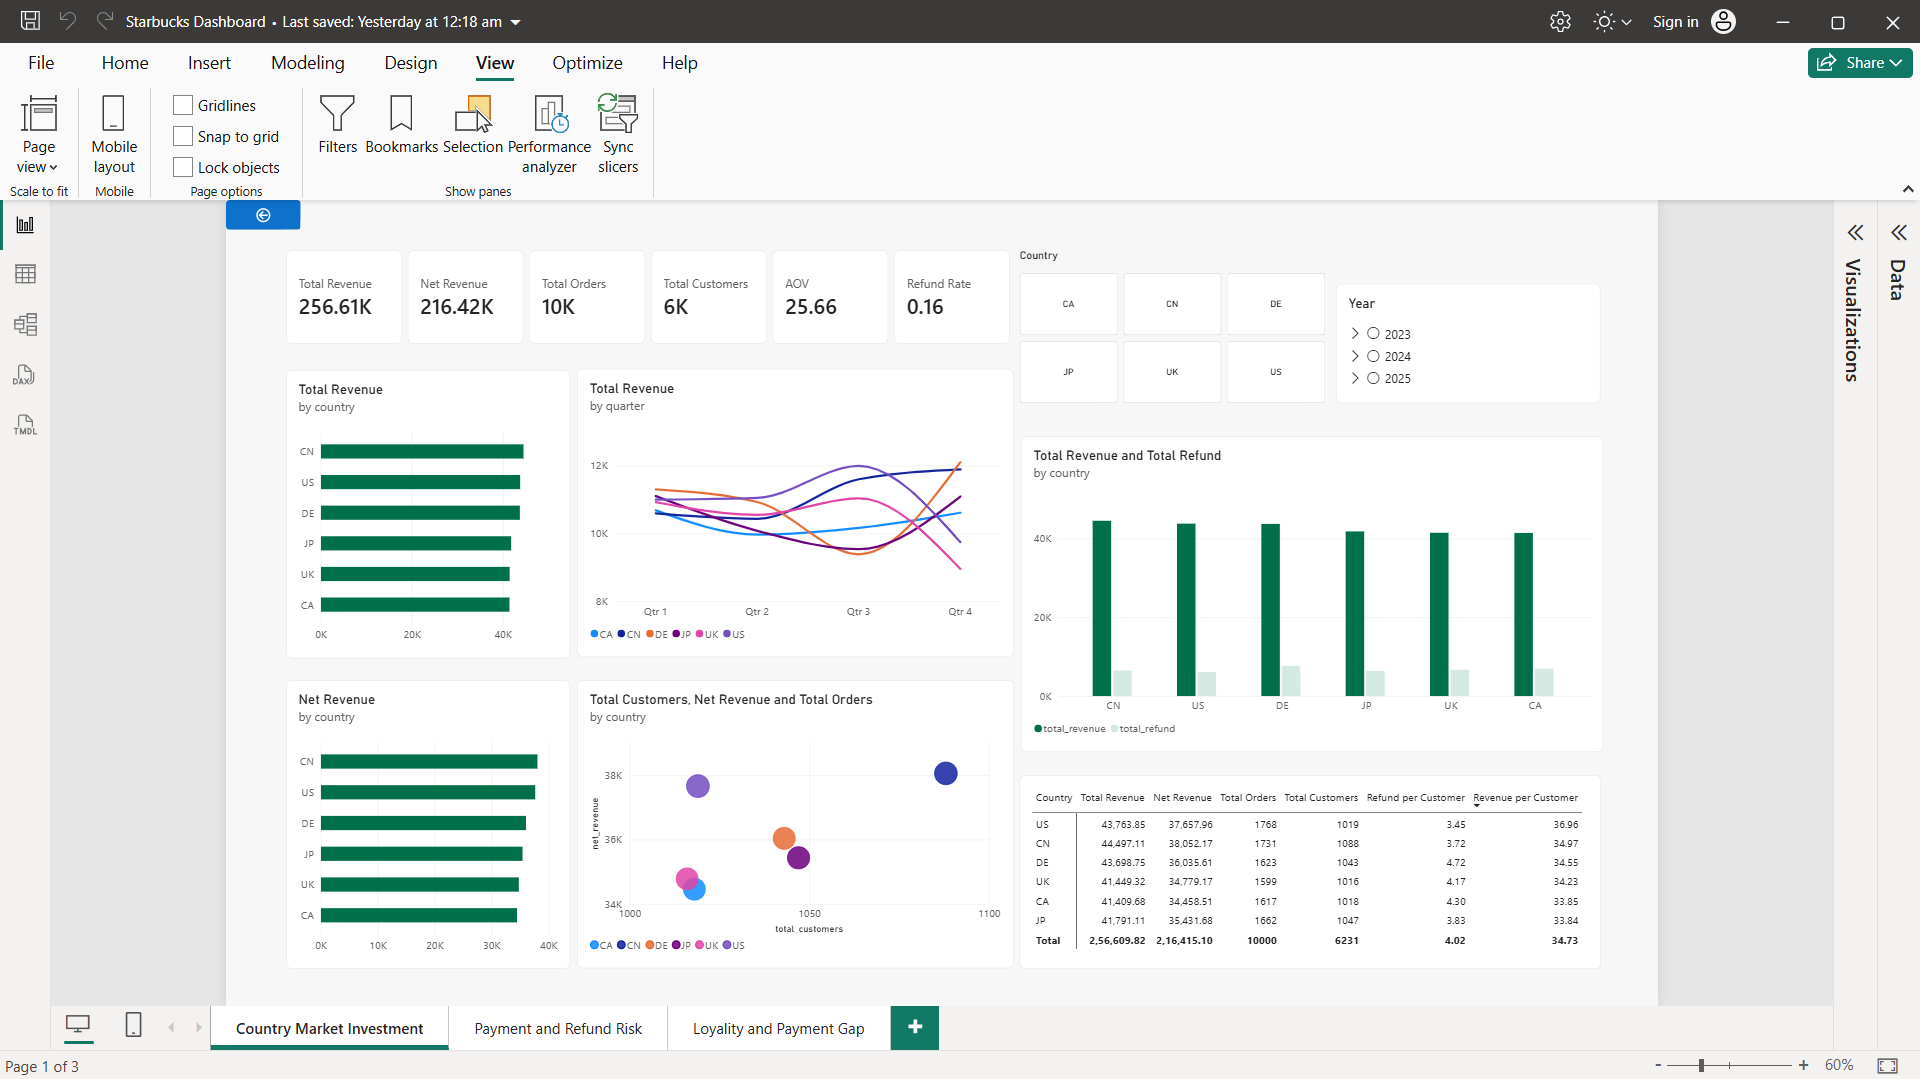

What the dashboard file says about the page in this screenshot:
{"tool":"powerbi","page":{"name":"Country Market Investment","canvas":[1920,1080],"ordinal":0},"visuals":[{"type":"cardVisual","fields":{"Data":["public orders.total_revenue","public orders.net_revenue","public orders.total_orders","public orders.total_customers","public orders.AOV","public orders.refund_rate"]},"box":[80,66.7,975,126.7],"z":0},{"type":"barChart","title":"Total Revenue","fields":{"Category":["public customers.country"],"Y":["public orders.total_revenue"]},"box":[80,227,381,386],"z":1000},{"type":"barChart","title":"Net Revenue","fields":{"Category":["public customers.country"],"Y":["public orders.net_revenue"]},"box":[80,643,381,387],"z":2000},{"type":"clusteredColumnChart","title":"Total Revenue and Total Refund","fields":{"Category":["public customers.country"],"Y":["public orders.total_revenue","public orders.total_refund"]},"box":[1064.4,316.7,780,423.3],"z":3000},{"type":"scatterChart","title":"Total Customers, Net Revenue and Total Orders","fields":{"Category":["public customers.country"],"Series":["public customers.country"],"Size":["public orders.total_orders"],"X":["public orders.total_customers"],"Y":["public orders.net_revenue"]},"box":[470,643.3,585,386.7],"z":4000},{"type":"lineChart","title":"Total Revenue","fields":{"Category":["Date.Date.Variation.Date Hierarchy.Quarter"],"Series":["public customers.country"],"Y":["public orders.total_revenue"]},"box":[470,226.7,585,386.7],"z":5000},{"type":"pivotTable","fields":{"Rows":["public customers.country"],"Values":["public orders.total_revenue","public orders.net_revenue","public orders.total_orders","public orders.total_customers","public orders.refund_per_customer","public orders.per_customer_revenue"]},"box":[1063.3,770,778.3,260],"z":6000},{"type":"actionButton","box":[0,0,100,40],"z":7000},{"type":"advancedSlicerVisual","title":"Country","fields":{"Values":["public customers.country"]},"box":[1064,66,410,208],"z":8000},{"type":"listSlicer","fields":{"Values":["Date.Date.Variation.Date Hierarchy.Year","Date.Date.Variation.Date Hierarchy.Quarter","Date.Date.Variation.Date Hierarchy.Month"]},"box":[1488,112,354,160],"z":9000}]}

Visuals, with their boxes on the page's 1920x1080 design canvas (x1, y1, x2, y2). These are canvas units, not pixel positions in the 1920x1079 screenshot, which may show the page scaled, cropped or inside an application window:
cardVisual - public orders.total_revenue x public orders.net_revenue: rect(80, 67, 1055, 193)
"Total Revenue" barChart: rect(80, 227, 461, 613)
"Net Revenue" barChart: rect(80, 643, 461, 1030)
"Total Revenue and Total Refund" clusteredColumnChart: rect(1064, 317, 1844, 740)
"Total Customers, Net Revenue and Total Orders" scatterChart: rect(470, 643, 1055, 1030)
"Total Revenue" lineChart: rect(470, 227, 1055, 613)
pivotTable - public customers.country x public orders.total_revenue: rect(1063, 770, 1842, 1030)
actionButton: rect(0, 0, 100, 40)
"Country" advancedSlicerVisual: rect(1064, 66, 1474, 274)
listSlicer - Date.Date.Variation.Date Hierarchy.Year x Date.Date.Variation.Date Hierarchy.Quarter: rect(1488, 112, 1842, 272)
